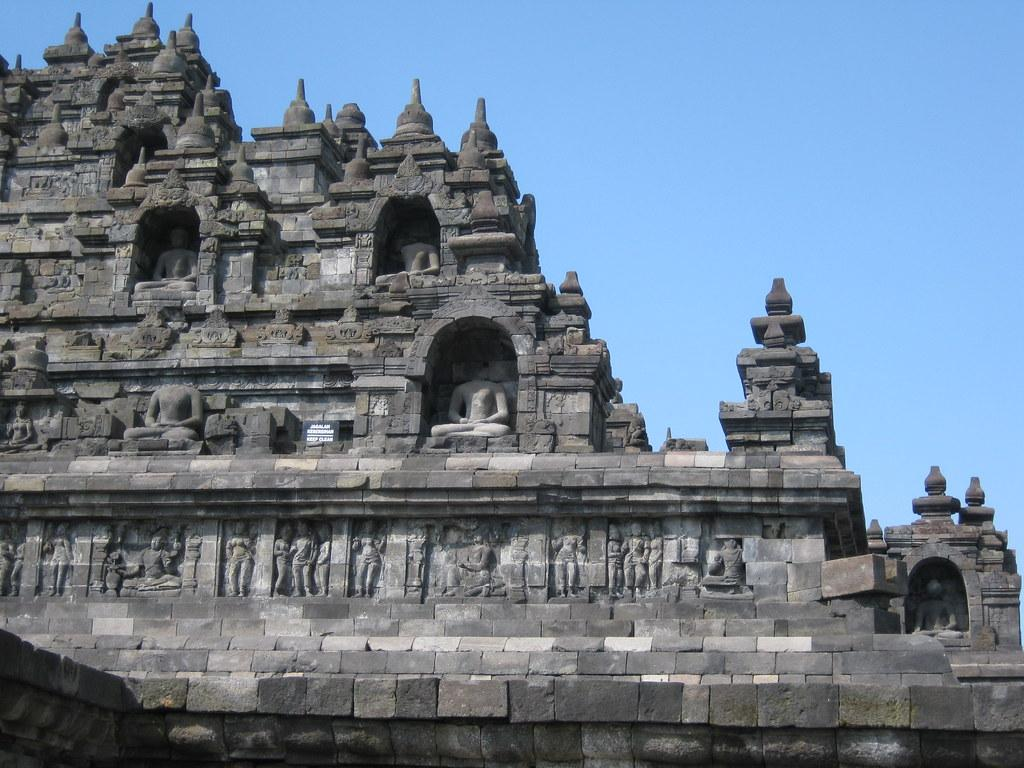temple: (2, 2, 1022, 766)
